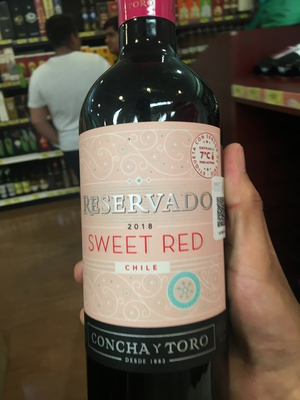reservado sweet red: (73, 1, 240, 398)
